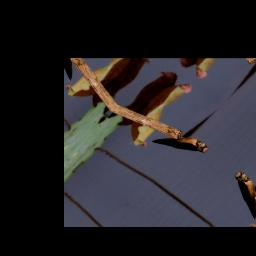Swallow: (149, 119, 211, 170)
